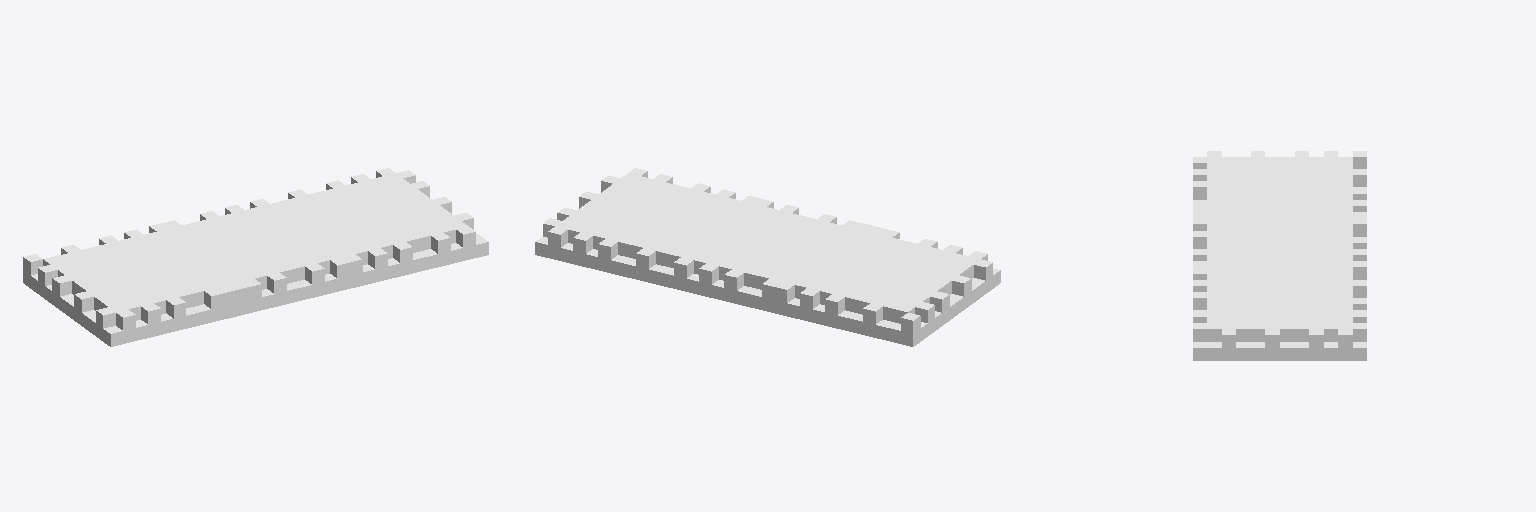
The model's file is summerpanelpanel.obj.
The picture shows the model from 3 angles: view 1: azimuth 30°, elevation 25°; view 2: azimuth 150°, elevation 25°; view 3: azimuth 270°, elevation 25°; orthographic projection.
Visible parts, largest first — view 1: summerpanelpanel; view 2: summerpanelpanel; view 3: summerpanelpanel.
Part boxes in pixels (x1,y1,x2,y2): summerpanelpanel: (23, 168, 488, 346); summerpanelpanel: (535, 168, 1000, 346); summerpanelpanel: (1193, 151, 1366, 360).
Bounding box in the file's own units: 30 × 2 × 12.